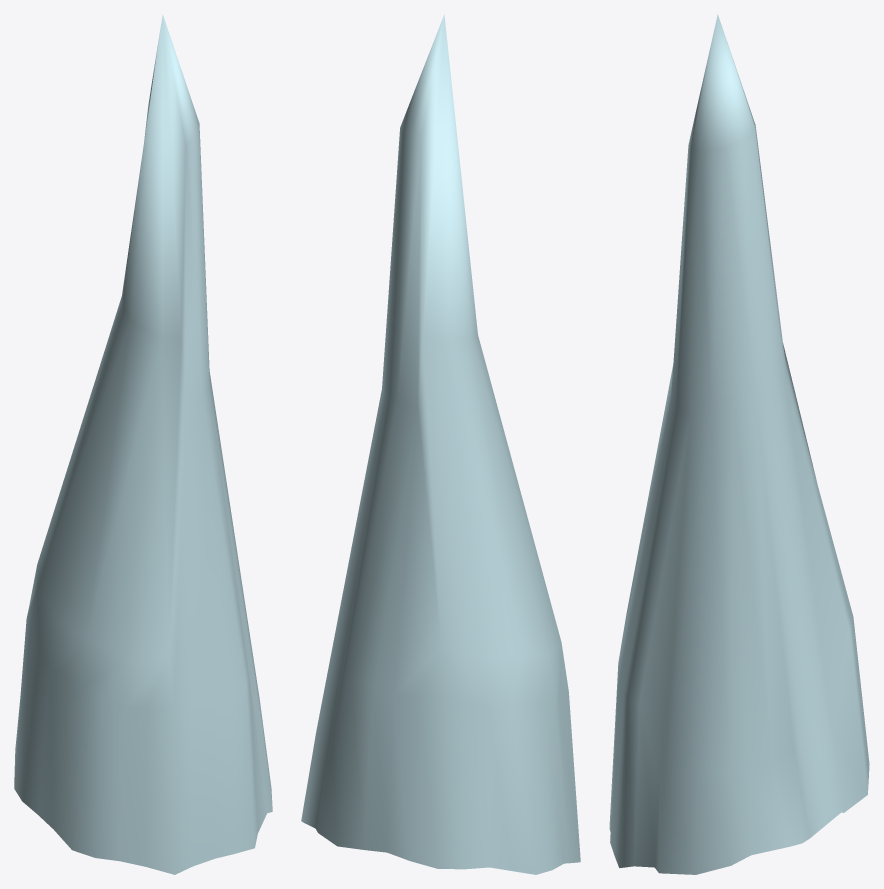
Rendered from iceberg01.FBX.
The picture shows the model from 3 angles, left to right: view 1: azimuth 30°, elevation 25°; view 2: azimuth 150°, elevation 25°; view 3: azimuth 270°, elevation 25°; orthographic projection. The views are drawn at different scales.
Parts seen in each view (by area): view 1: Boîte003; view 2: Boîte003; view 3: Boîte003.
Boxes of the visible parts, x1,y1,x2,y2 form: Boîte003: (14, 14, 272, 874); Boîte003: (301, 14, 580, 874); Boîte003: (609, 14, 869, 874).
Bounding box in the file's own units: 131 × 449 × 127.
